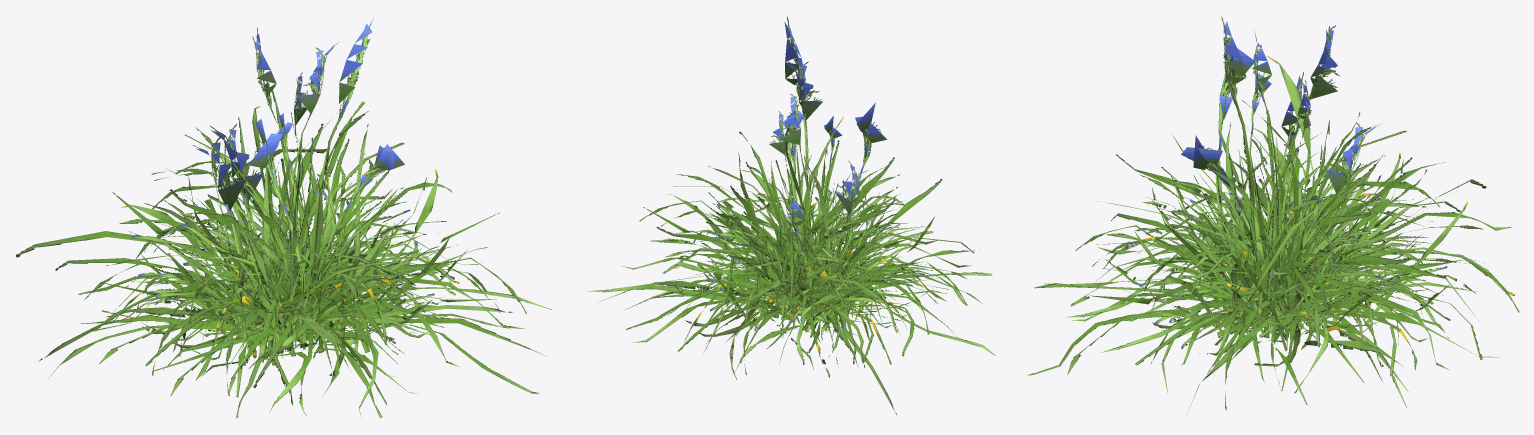
Rendered from grass_set.glb.
The picture shows the model from 3 angles, left to right: view 1: azimuth 30°, elevation 25°; view 2: azimuth 150°, elevation 25°; view 3: azimuth 270°, elevation 25°; orthographic projection. The views are drawn at different scales.
Parts seen in each view (by area): view 1: grass_b, grass_d, grass_c, grass_a; view 2: grass_b, grass_d, grass_c, grass_a; view 3: grass_b, grass_d, grass_c, grass_a.
Part boxes in pixels (x1=…): grass_b: x1=16, y1=90, x2=551, y2=418; grass_d: x1=38, y1=18, x2=512, y2=415; grass_c: x1=102, y1=42, x2=454, y2=404; grass_a: x1=155, y1=110, x2=416, y2=405; grass_b: x1=587, y1=116, x2=995, y2=379; grass_d: x1=653, y1=16, x2=946, y2=414; grass_c: x1=650, y1=59, x2=942, y2=364; grass_a: x1=673, y1=104, x2=946, y2=342; grass_b: x1=1028, y1=55, x2=1519, y2=411; grass_d: x1=1096, y1=16, x2=1485, y2=363; grass_c: x1=1070, y1=31, x2=1447, y2=393; grass_a: x1=1137, y1=100, x2=1429, y2=345.
Size of the model in its own units: 1.19 by 0.9258 by 1.1.
1 material, 1 textured.
